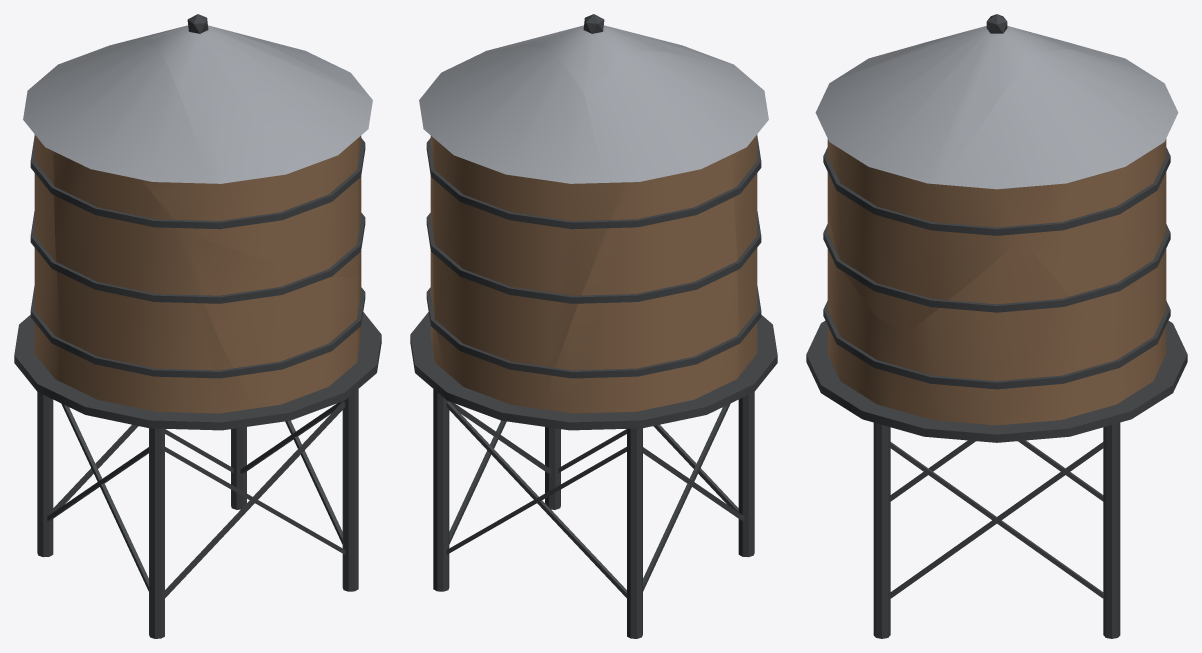
The model's file is water_tower_fractured.glb.
The picture shows the model from 3 angles, left to right: view 1: azimuth 30°, elevation 25°; view 2: azimuth 150°, elevation 25°; view 3: azimuth 270°, elevation 25°; orthographic projection. The views are drawn at different scales.
Parts seen in each view (by area): view 1: chunk_016, chunk_027, chunk_026, chunk_019, chunk_021, chunk_013, chunk_018, chunk_015, chunk_014, chunk_024, chunk_025, chunk_023 (+12 smaller); view 2: chunk_015, chunk_020, chunk_028, chunk_026, chunk_013, chunk_027, chunk_016, chunk_024, chunk_025, chunk_023, chunk_009, chunk_001 (+11 smaller); view 3: chunk_022, chunk_028, chunk_027, chunk_021, chunk_020, chunk_014, chunk_019, chunk_025, chunk_024, chunk_023, chunk_012, chunk_001 (+6 smaller).
Boxes of the visible parts, box(x1,y1,x2,y2) form: chunk_016: box(52, 151, 191, 412); chunk_027: box(135, 25, 372, 183); chunk_026: box(23, 42, 212, 183); chunk_019: box(184, 230, 359, 408); chunk_021: box(142, 136, 361, 277); chunk_013: box(14, 315, 236, 430); chunk_018: box(181, 275, 254, 413); chunk_015: box(34, 134, 62, 382); chunk_014: box(232, 312, 381, 428); chunk_024: box(30, 211, 365, 303); chunk_025: box(30, 136, 365, 229); chunk_023: box(30, 286, 365, 378); chunk_015: box(541, 155, 740, 413); chunk_020: box(430, 136, 624, 408); chunk_028: box(419, 46, 605, 183); chunk_026: box(585, 50, 768, 182); chunk_013: box(457, 315, 777, 430); chunk_027: box(479, 25, 736, 94); chunk_016: box(730, 134, 757, 374); chunk_024: box(426, 211, 761, 303); chunk_025: box(426, 136, 761, 229); chunk_023: box(426, 286, 761, 378); chunk_009: box(446, 401, 626, 597); chunk_001: box(433, 470, 449, 591); chunk_022: box(892, 240, 1130, 425); chunk_028: box(940, 49, 1178, 189); chunk_027: box(815, 26, 1070, 184); chunk_021: box(827, 139, 1045, 334); chunk_020: box(1021, 139, 1166, 394); chunk_014: box(806, 330, 1175, 442); chunk_019: box(827, 211, 904, 408); chunk_025: box(823, 147, 1170, 235); chunk_024: box(823, 224, 1170, 312); chunk_023: box(823, 301, 1170, 389); chunk_012: box(889, 442, 1104, 599); chunk_001: box(1103, 513, 1120, 638).
Size of the model in its own units: 6.3 by 10.45 by 6.3.
